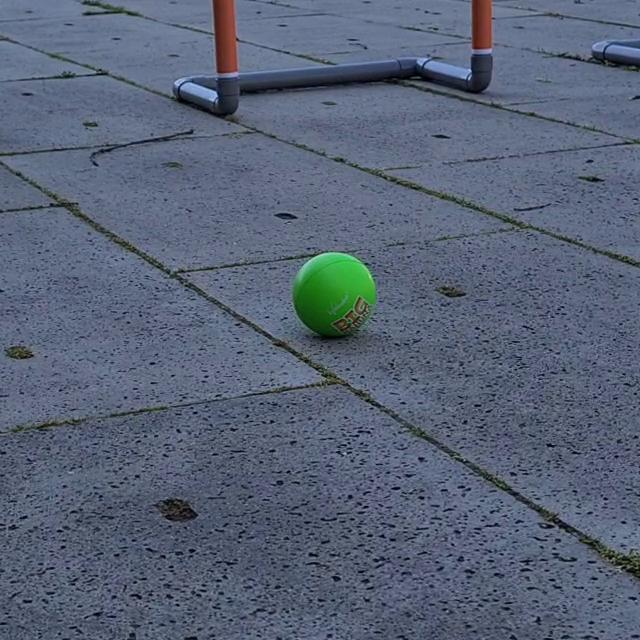ball: (290, 249, 378, 343)
